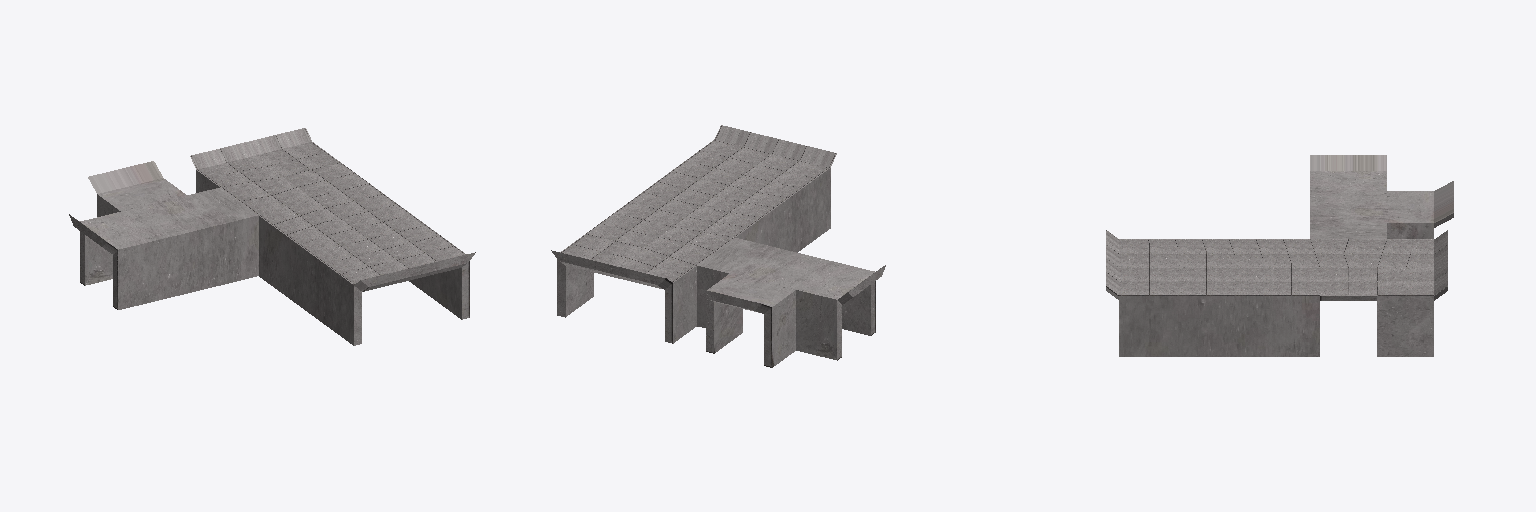
3 renders of one model, left to right at view 1: azimuth 30°, elevation 25°; view 2: azimuth 150°, elevation 25°; view 3: azimuth 270°, elevation 25°, orthographic.
Visible parts, largest first — view 1: Plane.001; view 2: Plane.001; view 3: Plane.001.
Part boxes in pixels (left/top/right/bottom): Plane.001: left=69, top=128, right=475, bottom=345; Plane.001: left=551, top=125, right=885, bottom=367; Plane.001: left=1106, top=155, right=1453, bottom=356.
Size of the model in its own units: 10.78 by 2.74 by 12.13.
Materials: 1 (1 with a texture image).